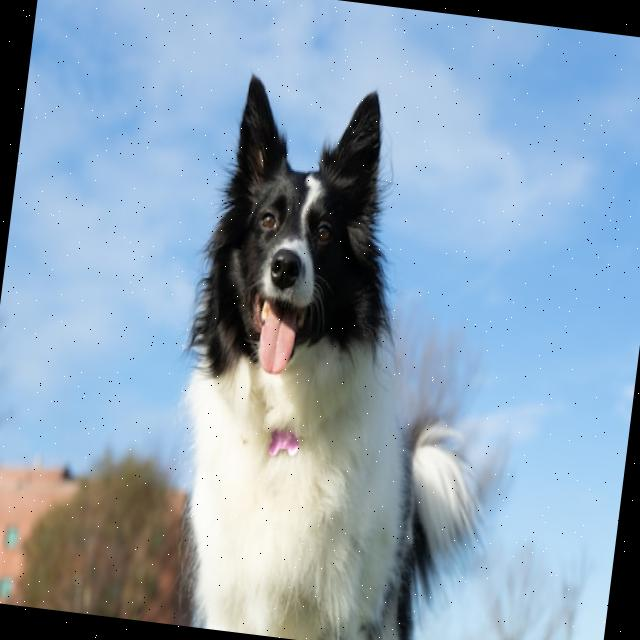Dog: (155, 70, 535, 640)
